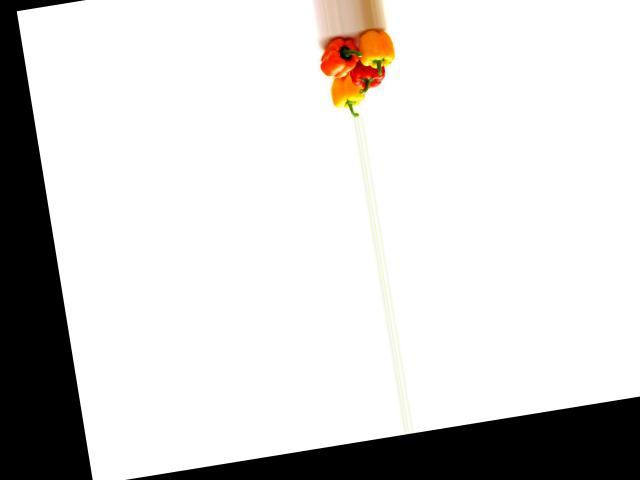bell_pepper: (345, 26, 398, 78)
